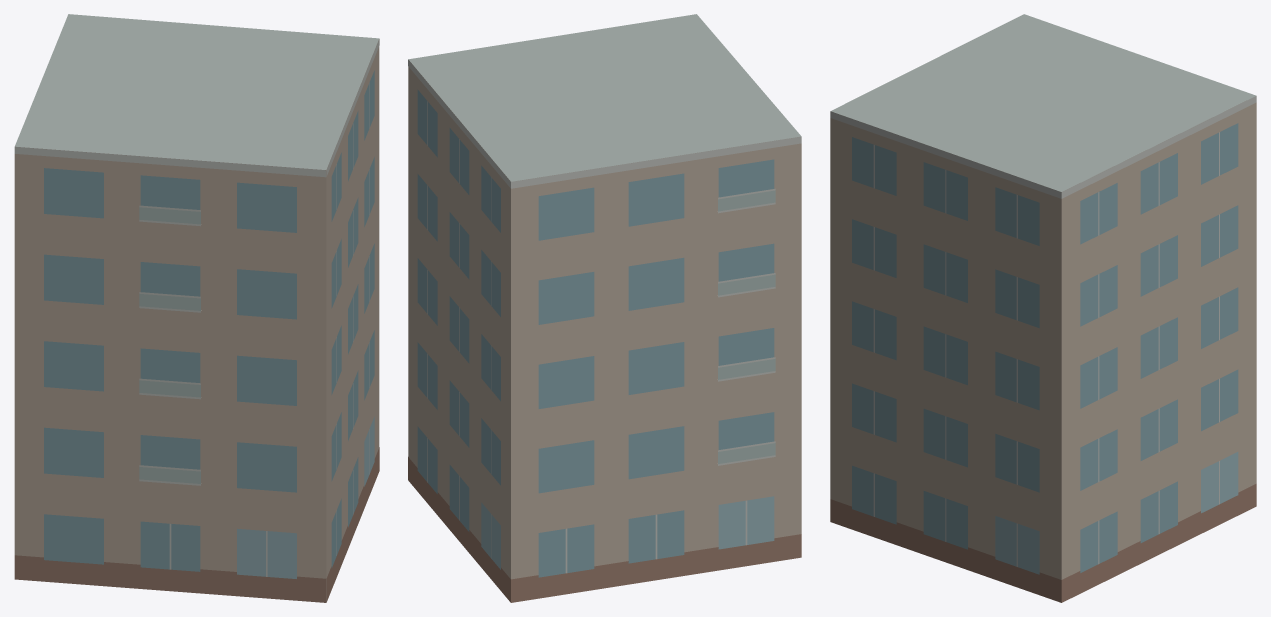
File: survey-upis-32678569.glb
3 renders of one model, left to right at view 1: azimuth 30°, elevation 25°; view 2: azimuth 150°, elevation 25°; view 3: azimuth 270°, elevation 25°, orthographic. The views are drawn at different scales.
Parts seen in each view (by area): view 1: survey-upis-32678569.tmp; view 2: survey-upis-32678569.tmp; view 3: survey-upis-32678569.tmp.
Part boxes in pixels (<box>): survey-upis-32678569.tmp: <box>14,14,379,602</box>; survey-upis-32678569.tmp: <box>408,14,801,602</box>; survey-upis-32678569.tmp: <box>830,14,1256,602</box>.
Size of the model in its own units: 13.77 by 14.8 by 13.92.
